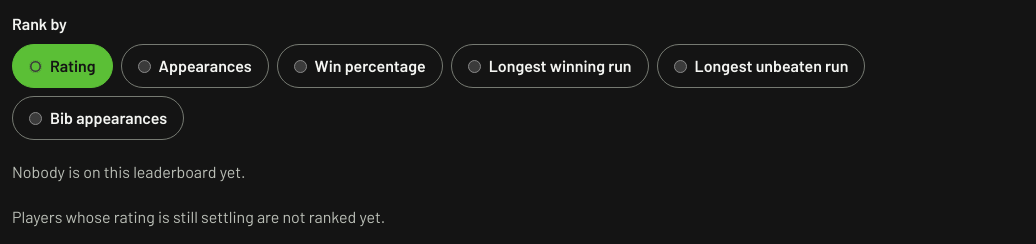
Scenario: SquadLeaderboards › marks a former player beside their name
Step 1. Click the radio button labelled "Appearances" → x=144, y=66, box [138, 60, 151, 72]
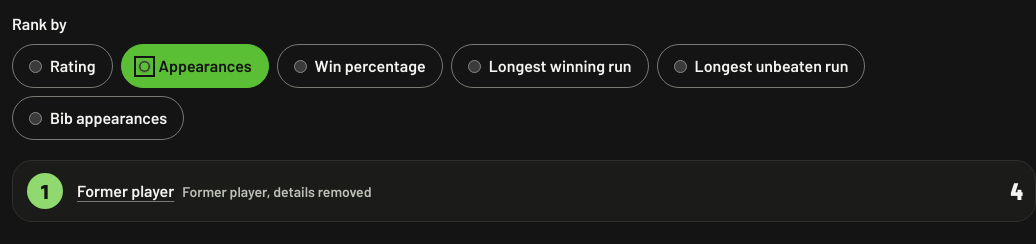
Check: the text "Former player, details removed" is shown, box [182, 181, 372, 202]
